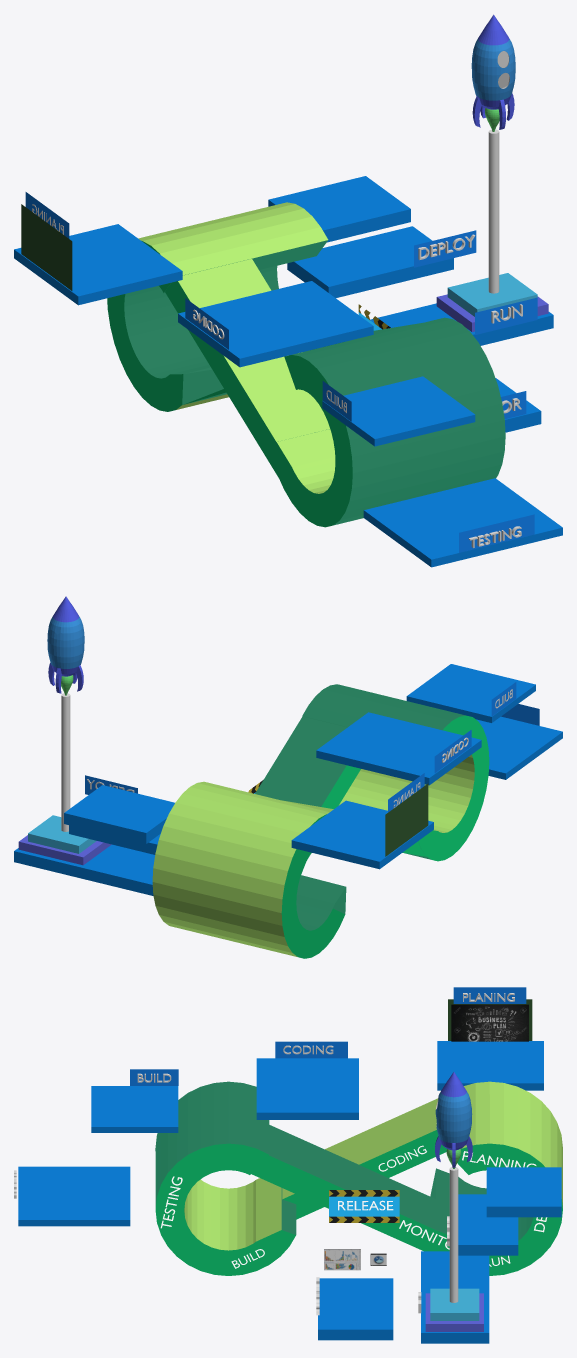
Rendered from DevOpsProceso.glb.
3 renders of one model, top to bottom at view 1: azimuth 30°, elevation 25°; view 2: azimuth 150°, elevation 25°; view 3: azimuth 270°, elevation 25°, orthographic. The views are drawn at different scales.
Parts seen in each view (by area): view 1: Cube, Sphere.001; view 2: Cube, Sphere.001; view 3: Cube, Sphere.001.
Boxes of the visible parts, bbox=[...] form: Cube: bbox=[14, 129, 562, 567]; Sphere.001: bbox=[471, 14, 515, 131]; Cube: bbox=[14, 664, 562, 958]; Sphere.001: bbox=[47, 596, 84, 695]; Cube: bbox=[14, 987, 562, 1343]; Sphere.001: bbox=[435, 1072, 472, 1168].
Bounding box in the file's own units: 6.09 × 4.27 × 7.51.
Materials: 21 (3 with a texture image).
